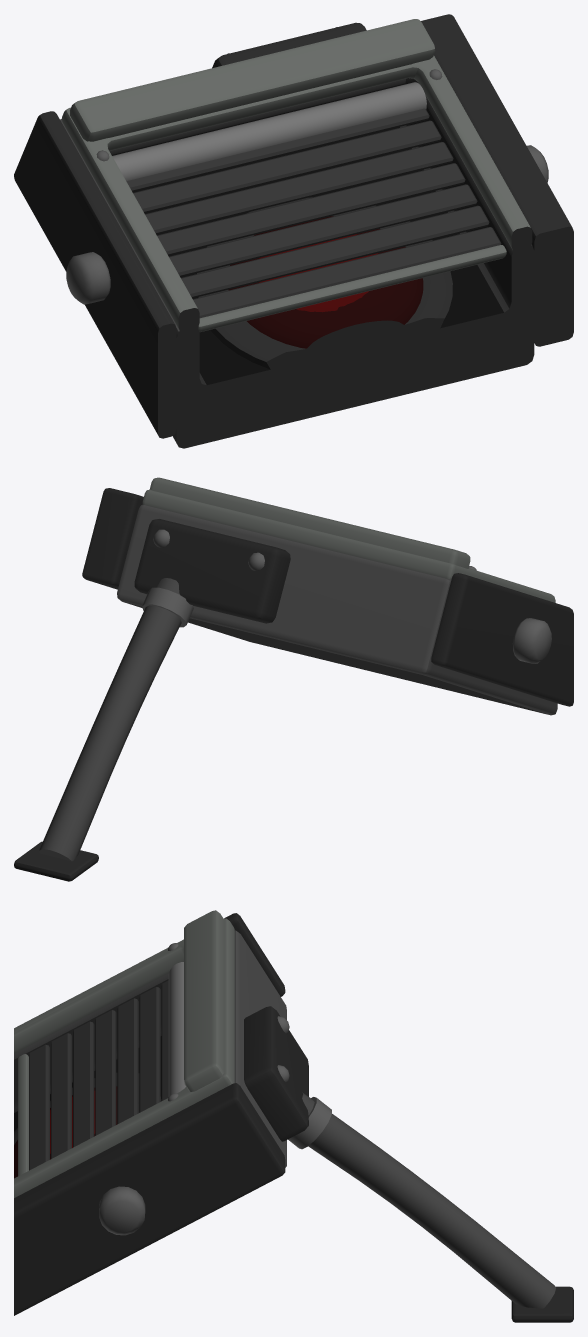
Rendered from cliff_bunker_top_155.glb.
3 renders of one model, top to bottom at view 1: azimuth 30°, elevation 25°; view 2: azimuth 150°, elevation 25°; view 3: azimuth 270°, elevation 25°, orthographic. The views are drawn at different scales.
Visible parts, largest first — view 1: box.001, bracket0.001, frame.001, brow.001, bracket1.001, roll.001, eye.001, slat5.001, slat4.001, slat1.001, slat2.001, slat3.001 (+7 smaller); view 2: box.001, bracket0.001, strut.001, mount.001, frame.001, brow.001, bracket1.001, strut_foot.001, knob0.001, strut_collar.001; view 3: bracket1.001, strut.001, frame.001, brow.001, mount.001, box.001, slat4.001, slat2.001, slat3.001, slat5.001, slat1.001, slat0.001 (+7 smaller).
Part boxes in pixels (x1=…): box.001: x1=60, y1=78, x2=534, y2=448; bracket0.001: x1=14, y1=111, x2=176, y2=438; frame.001: x1=62, y1=55, x2=532, y2=332; brow.001: x1=70, y1=19, x2=435, y2=141; bracket1.001: x1=421, y1=14, x2=573, y2=346; roll.001: x1=112, y1=82, x2=426, y2=180; eye.001: x1=228, y1=216, x2=423, y2=358; slat5.001: x1=133, y1=120, x2=441, y2=213; slat4.001: x1=145, y1=142, x2=453, y2=234; slat1.001: x1=181, y1=205, x2=489, y2=298; slat2.001: x1=169, y1=184, x2=477, y2=276; slat3.001: x1=157, y1=163, x2=465, y2=255; box.001: x1=117, y1=504, x2=557, y2=715; bracket0.001: x1=431, y1=573, x2=573, y2=706; strut.001: x1=39, y1=578, x2=181, y2=861; mount.001: x1=134, y1=519, x2=290, y2=623; frame.001: x1=142, y1=489, x2=555, y2=602; brow.001: x1=149, y1=477, x2=470, y2=568; bracket1.001: x1=82, y1=488, x2=143, y2=589; strut_foot.001: x1=14, y1=841, x2=98, y2=881; knob0.001: x1=512, y1=618, x2=551, y2=663; strut_collar.001: x1=142, y1=587, x2=193, y2=627; bracket1.001: x1=14, y1=1083, x2=285, y2=1315; strut.001: x1=302, y1=1092, x2=555, y2=1308; frame.001: x1=14, y1=918, x2=234, y2=1197; brow.001: x1=184, y1=910, x2=224, y2=1091; mount.001: x1=244, y1=1006, x2=308, y2=1141; box.001: x1=14, y1=930, x2=286, y2=1167; slat4.001: x1=117, y1=998, x2=138, y2=1124; slat2.001: x1=73, y1=1021, x2=94, y2=1147; slat3.001: x1=95, y1=1010, x2=116, y2=1135; slat5.001: x1=139, y1=987, x2=160, y2=1112; slat1.001: x1=51, y1=1033, x2=71, y2=1158; slat0.001: x1=29, y1=1044, x2=49, y2=1170.
Bounding box in the file's own units: 22.5 × 13.62 × 25.2.
